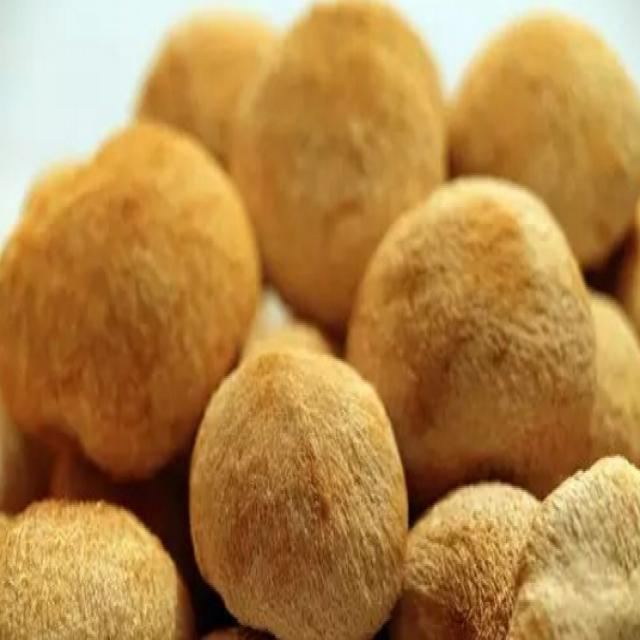Hericium erinaceus: (0, 119, 258, 488), (348, 177, 594, 502), (236, 4, 448, 319), (193, 345, 408, 636), (449, 19, 640, 261), (0, 494, 189, 640), (514, 456, 640, 640), (409, 484, 536, 640)
